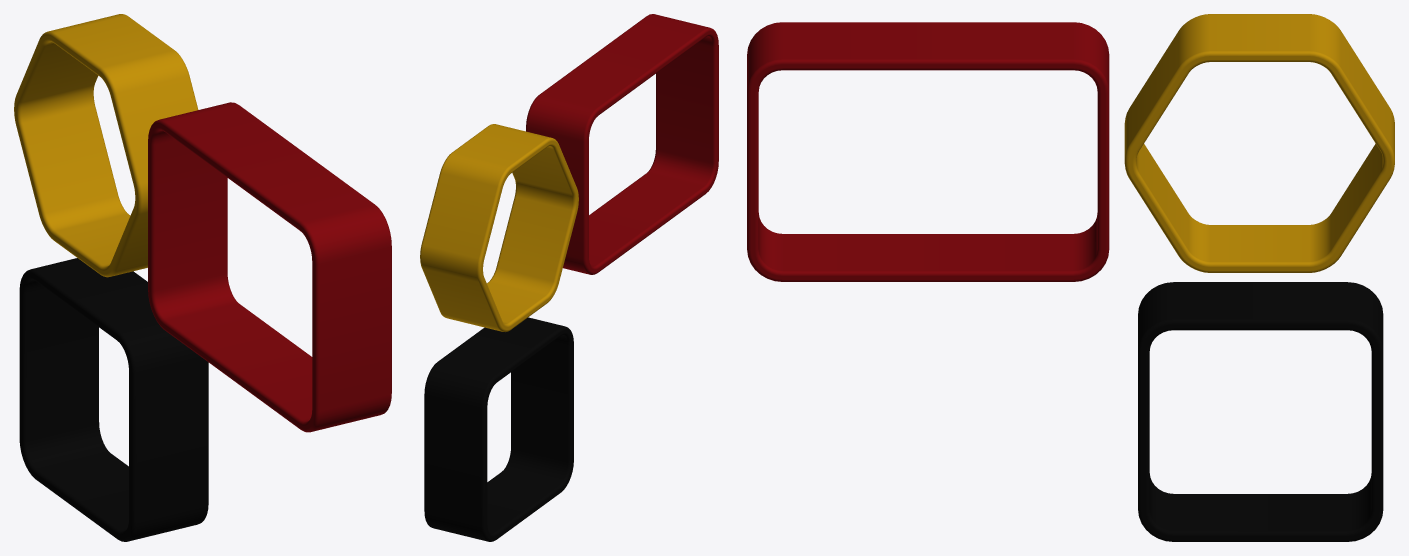
The model's file is SM_WallShelves.FBX.
3 views of the same model, side by side, from view 1: azimuth 30°, elevation 25°; view 2: azimuth 150°, elevation 25°; view 3: azimuth 270°, elevation 25° (orthographic). The views are drawn at different scales.
Visible parts, largest first — view 1: Shelf03, Shelf02, Shelf01; view 2: Shelf03, Shelf02, Shelf01; view 3: Shelf03, Shelf01, Shelf02.
Part boxes in pixels (<box>): Shelf03: <box>148,102,391,432</box>; Shelf02: <box>19,258,208,541</box>; Shelf01: <box>14,14,198,277</box>; Shelf03: <box>526,14,718,274</box>; Shelf02: <box>424,317,573,541</box>; Shelf01: <box>420,124,578,331</box>; Shelf03: <box>747,22,1109,281</box>; Shelf01: <box>1124,14,1394,272</box>; Shelf02: <box>1138,282,1383,541</box>.
Bounding box in the file's own units: 3.74 × 21.42 × 25.64.
